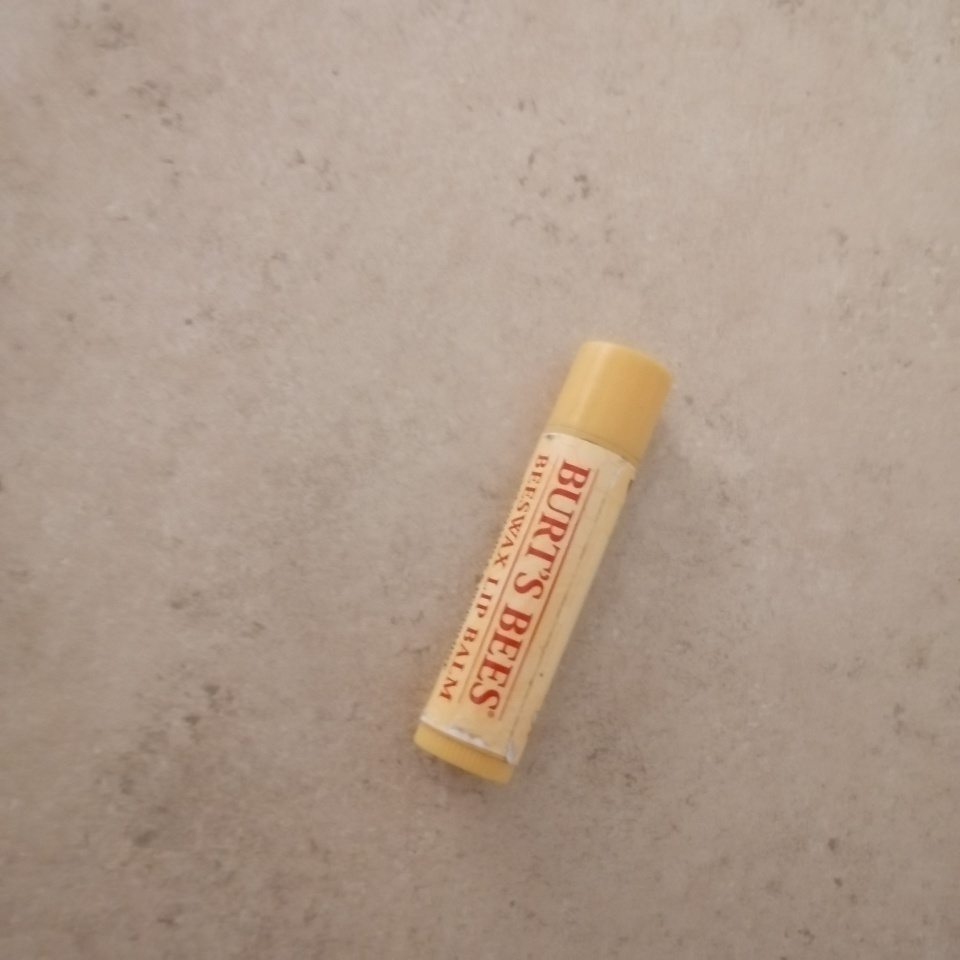chapstick: (412, 340, 673, 788)
